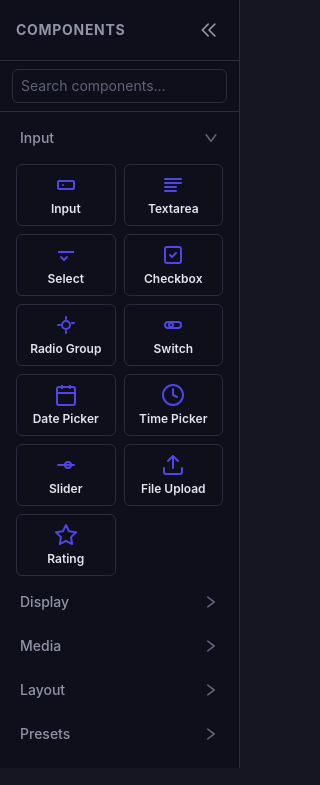
Test: ComponentPalette › only one category is open at a time
Expected: the element with test id "palette-item-INPUT" is shown, [16,164,116,226]
Note: Click Media header to open it
Click the button "Media" at x=120, y=646, box [8,628,231,664]
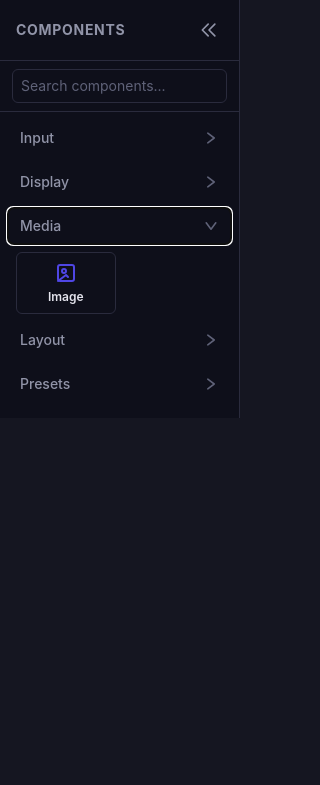
Now the element with test id "palette-item-IMAGE" is shown, box [16,252,116,314]
Now the element with test id "palette-item-INPUT" is gone
